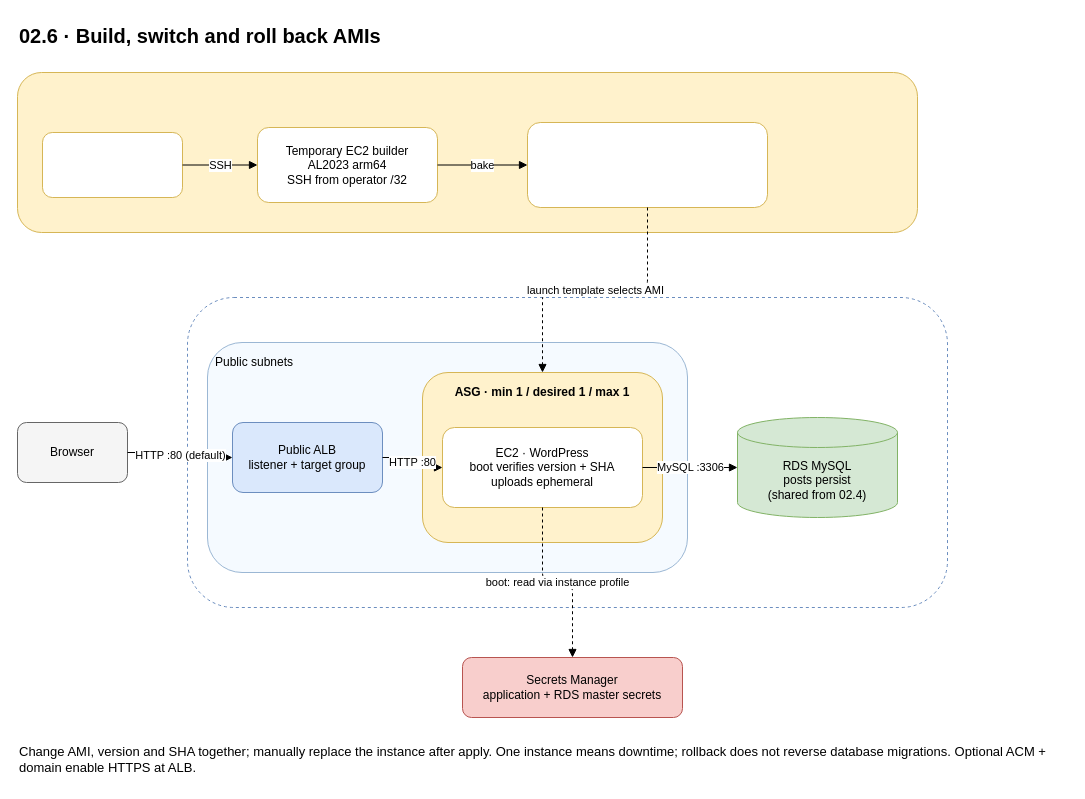
This 1085x799 diagram has some shape labels left out. Each missing label, with the box of its shape:
Image build · before deployment: (16, 72, 918, 232)
Packer AMIs Apache, PHP + verified WP archive 6.7.1 / 6.7.2; no credentials: (526, 122, 768, 208)
Packer operator workstation: (42, 132, 182, 198)
Shared VPC from 02.4: (186, 296, 948, 608)
